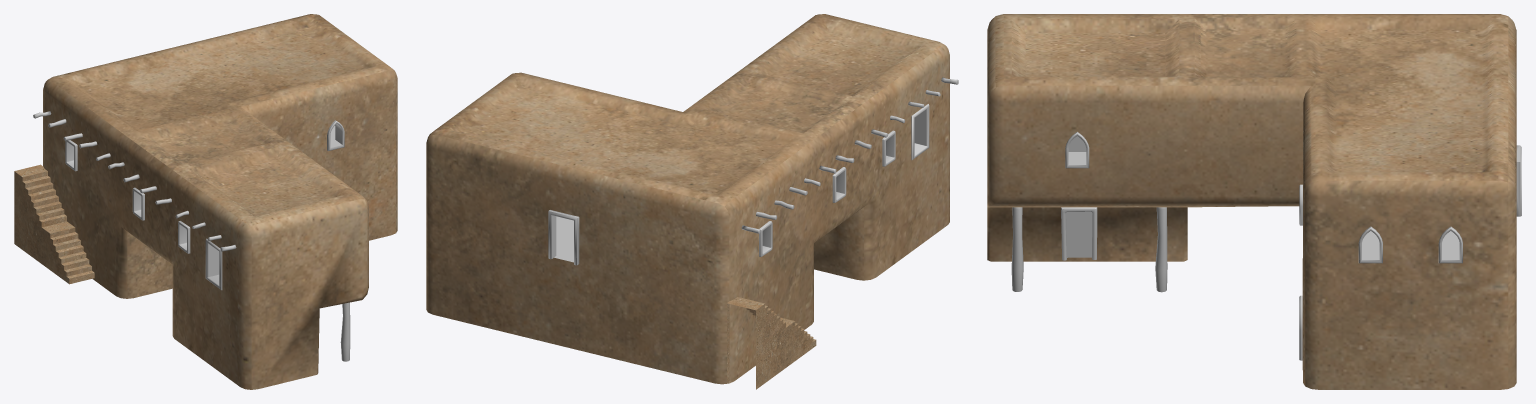
Rendered from Type3_2.fbx.
The picture shows the model from 3 angles, left to right: view 1: azimuth 30°, elevation 25°; view 2: azimuth 150°, elevation 25°; view 3: azimuth 270°, elevation 25°; orthographic projection. The views are drawn at different scales.
Visible parts, largest first — view 1: Cube.013, Cube.016, WOOD.004, MAINDOORSBODY.025; view 2: Cube.013, Cube.016, WOOD.004, MAINDOORSBODY.025; view 3: Cube.013, WOOD.004, MAINDOORSBODY.025.
Part boxes in pixels (x1=…): Cube.013: x1=43, y1=14, x2=397, y2=389; Cube.016: x1=14, y1=164, x2=94, y2=284; WOOD.004: x1=33, y1=111, x2=350, y2=361; MAINDOORSBODY.025: x1=205, y1=120, x2=344, y2=290; Cube.013: x1=426, y1=14, x2=949, y2=384; Cube.016: x1=727, y1=297, x2=816, y2=389; WOOD.004: x1=741, y1=77, x2=958, y2=256; MAINDOORSBODY.025: x1=548, y1=104, x2=929, y2=265; Cube.013: x1=987, y1=14, x2=1516, y2=389; WOOD.004: x1=1011, y1=207, x2=1167, y2=292; MAINDOORSBODY.025: x1=1065, y1=132, x2=1521, y2=360.
Bounding box in the file's own units: 1739 × 905 × 2060.
